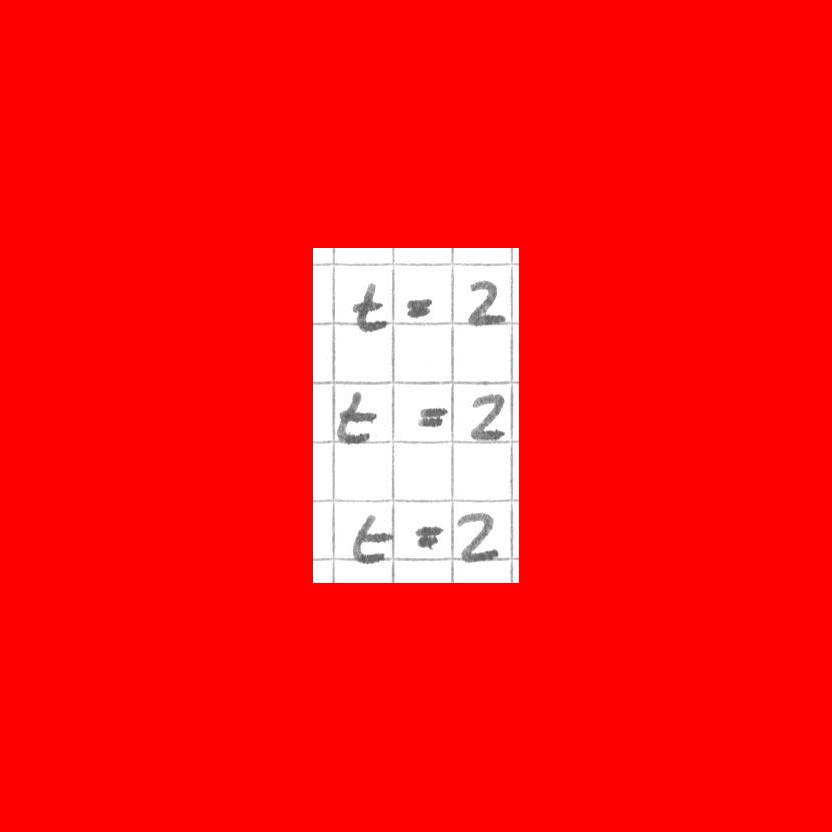Char: (453, 509, 500, 565), (335, 387, 377, 446), (352, 508, 393, 566), (353, 277, 389, 337), (466, 392, 509, 442), (464, 278, 503, 329), (416, 403, 450, 431), (414, 521, 442, 552), (404, 295, 434, 321)
